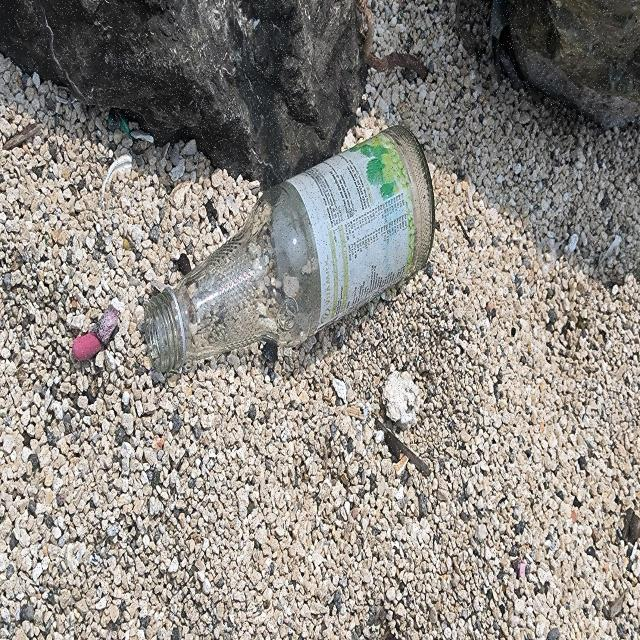glass_waste: (145, 124, 437, 376)
